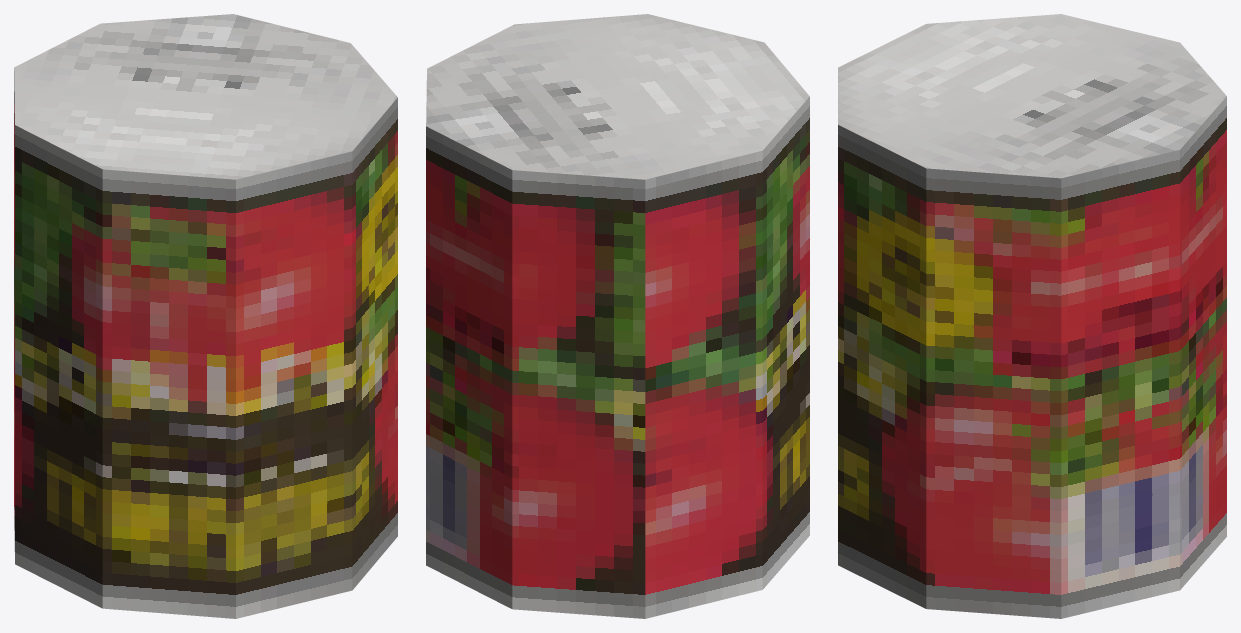
File: Classic64_FoodCannedSoup8_Model.fbx
3 views of the same model, side by side, from view 1: azimuth 30°, elevation 25°; view 2: azimuth 150°, elevation 25°; view 3: azimuth 270°, elevation 25° (orthographic).
Parts seen in each view (by area): view 1: Classic64_FoodCannedSoup8_Part000; view 2: Classic64_FoodCannedSoup8_Part000; view 3: Classic64_FoodCannedSoup8_Part000.
Boxes of the visible parts, <box> form: Classic64_FoodCannedSoup8_Part000: <box>14,14,397,618</box>; Classic64_FoodCannedSoup8_Part000: <box>426,14,809,618</box>; Classic64_FoodCannedSoup8_Part000: <box>838,14,1226,618</box>.
Bounding box in the file's own units: 0.1016 × 0.127 × 0.1016.
1 material, 1 textured.
